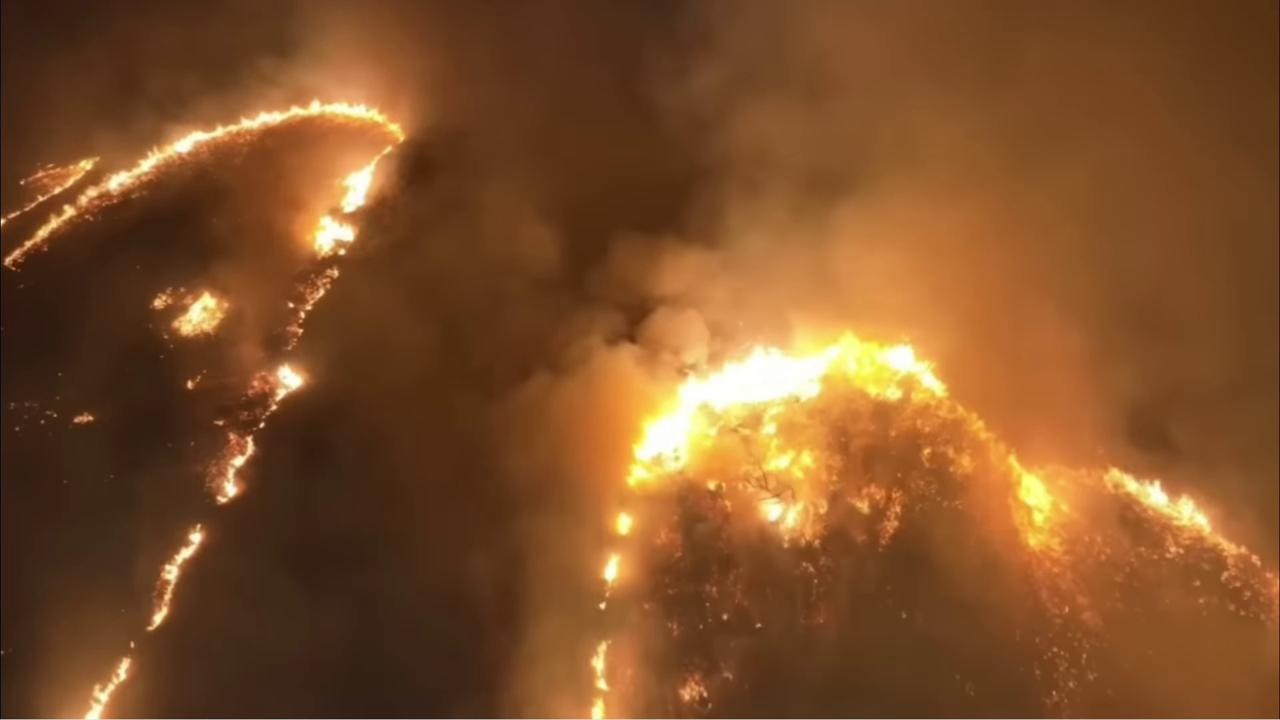fire: (584, 326, 1280, 610), (0, 91, 411, 353), (190, 362, 307, 506), (138, 522, 204, 634), (146, 282, 234, 343), (78, 653, 133, 720), (672, 668, 714, 711), (587, 635, 613, 692), (587, 698, 611, 720), (185, 369, 207, 392), (71, 412, 95, 428)
smoke: (0, 0, 1280, 720)
